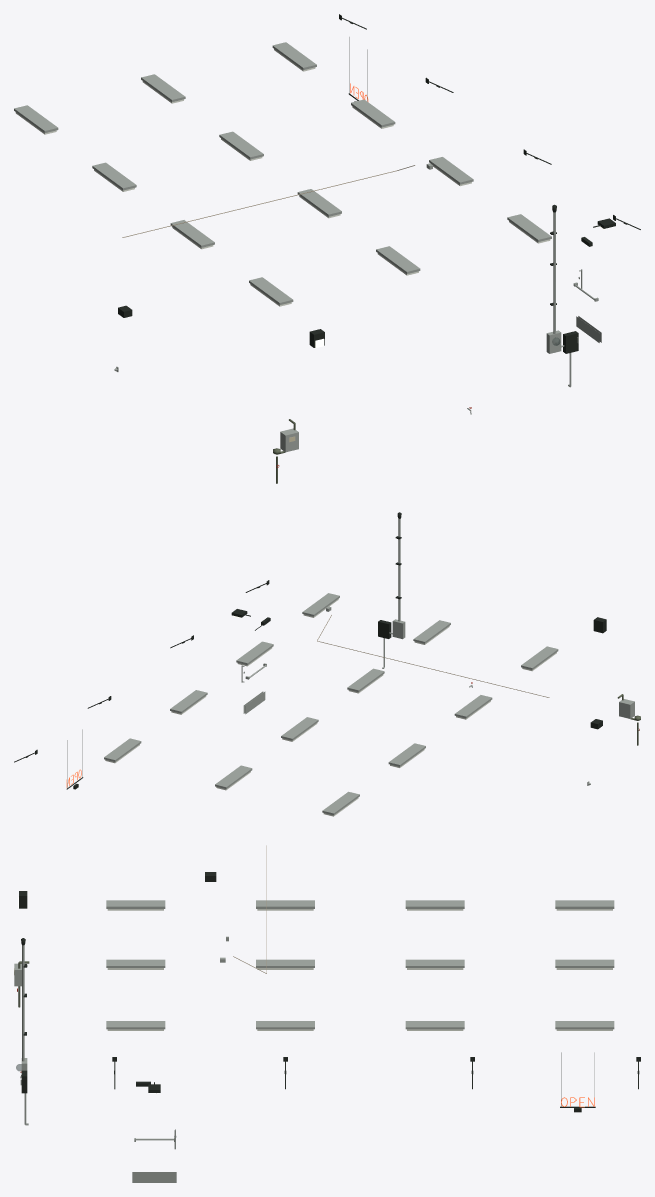
The model's file is SM_Town_Laundry_Fixtures_LOD1.fbx.
The picture shows the model from 3 angles, top to bottom: view 1: azimuth 30°, elevation 25°; view 2: azimuth 150°, elevation 25°; view 3: azimuth 270°, elevation 25°; orthographic projection. The views are drawn at different scales.
Parts seen in each view (by area): view 1: SM_Town_Laundry_Fixtures_LOD1; view 2: SM_Town_Laundry_Fixtures_LOD1; view 3: SM_Town_Laundry_Fixtures_LOD1.
Boxes of the visible parts, x1=… form: SM_Town_Laundry_Fixtures_LOD1: x1=14, y1=14, x2=640, y2=483; SM_Town_Laundry_Fixtures_LOD1: x1=14, y1=512, x2=640, y2=816; SM_Town_Laundry_Fixtures_LOD1: x1=14, y1=845, x2=640, y2=1182.
Bounding box in the file's own units: 11.09 × 13.41 × 4.7.
